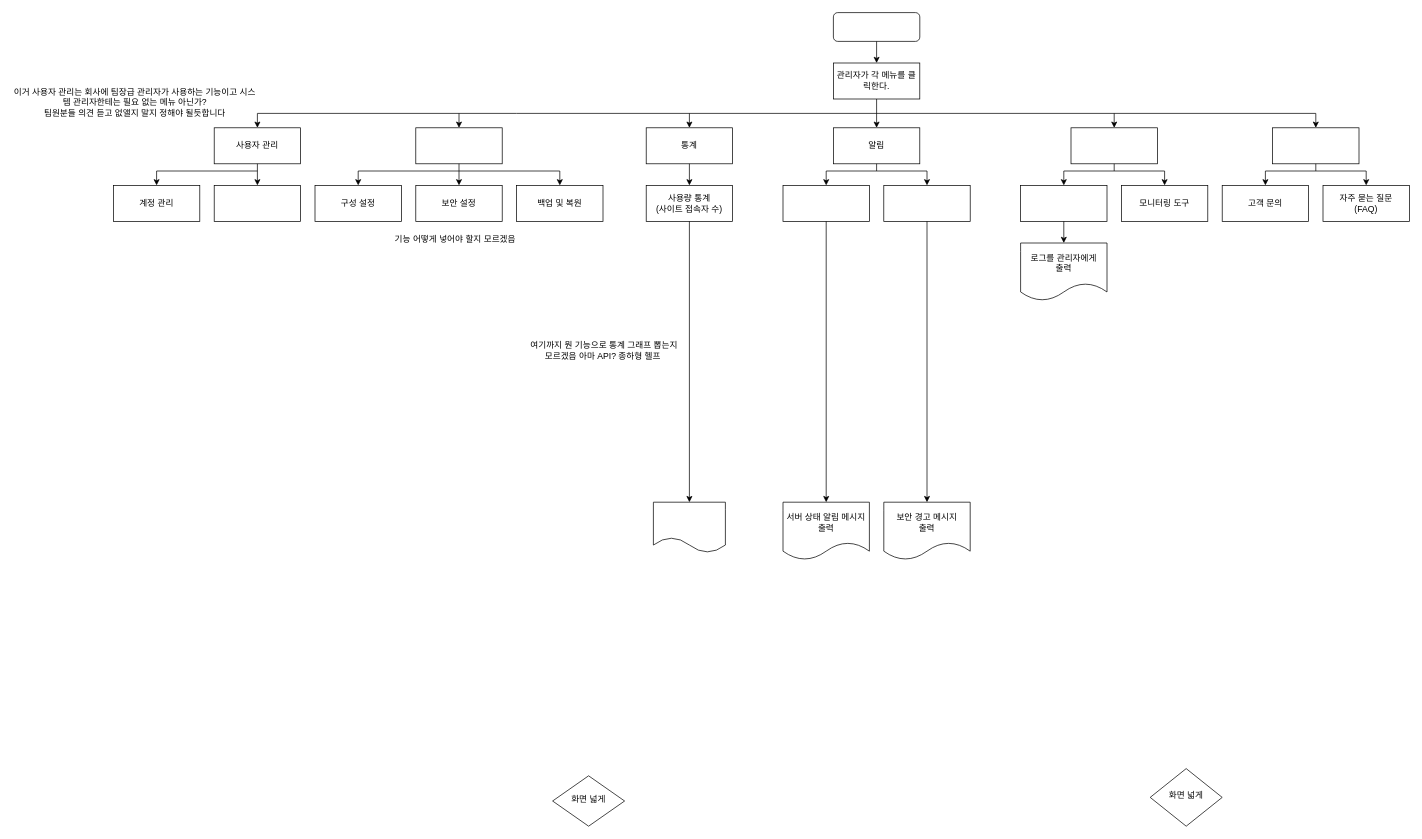
Image size: 1422x839. Some labels were removed from this diagram. The shapes that lost their labels are listed below. From the top down, each one's centre as x and y in pixels, then its label:
At point (876, 26): "시스템 관리자 페이지 진입".
At point (458, 145): "시스템 설정".
At point (1113, 145): "로그 및 모니터링".
At point (1315, 145): "고객 지원".
At point (257, 203): "권한 관리".
At point (825, 203): "알림 설정".
At point (926, 203): "경고 설정".
At point (1063, 203): "로그 기록".
At point (689, 527): "사용량 통계 그래프로 출력".
